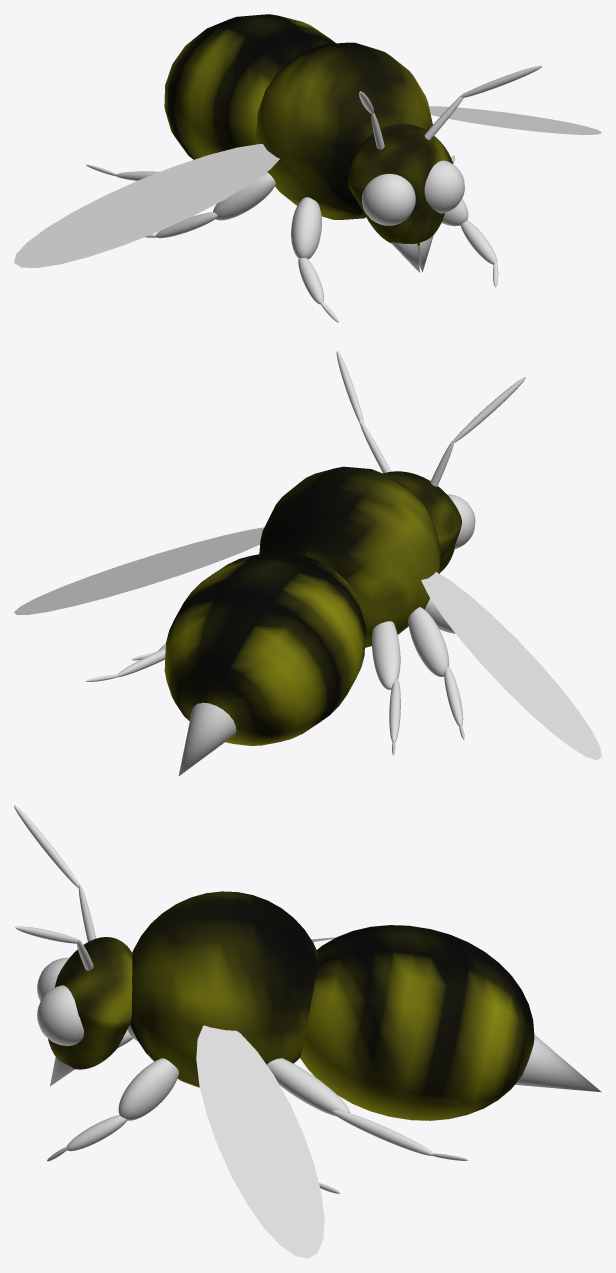
File: Bee.fbx
The picture shows the model from 3 angles, top to bottom: view 1: azimuth 30°, elevation 25°; view 2: azimuth 150°, elevation 25°; view 3: azimuth 270°, elevation 25°; orthographic projection. The views are drawn at different scales.
Parts seen in each view (by area): view 1: pSphere21, pDisc3, polySurface5, polySurface24, pDisc2, polySurface23, polySurface2; view 2: pSphere21, pDisc3, polySurface5, pDisc2, polySurface4, polySurface24; view 3: pSphere21, pDisc2, polySurface5, polySurface4, polySurface23, polySurface24.
Boxes of the visible parts, x1,y1,x2,y2 form: pSphere21: (164,14,452,245); pDisc3: (14,144,279,267); polySurface5: (86,65,542,322); polySurface24: (361,173,415,225); pDisc2: (429,106,601,134); polySurface23: (424,160,464,213); polySurface2: (391,235,433,272); pSphere21: (164,466,461,745); pDisc3: (421,572,601,760); polySurface5: (85,351,525,755); pDisc2: (14,527,264,614); polySurface4: (178,702,236,775); polySurface24: (447,494,475,548); pSphere21: (48,891,534,1120); pDisc2: (196,1025,324,1258); polySurface5: (14,805,467,1193); polySurface4: (515,1035,601,1092); polySurface23: (37,985,83,1045); polySurface24: (37,957,69,1001).
Bounding box in the file's own units: 52.2 × 21.13 × 40.98.
